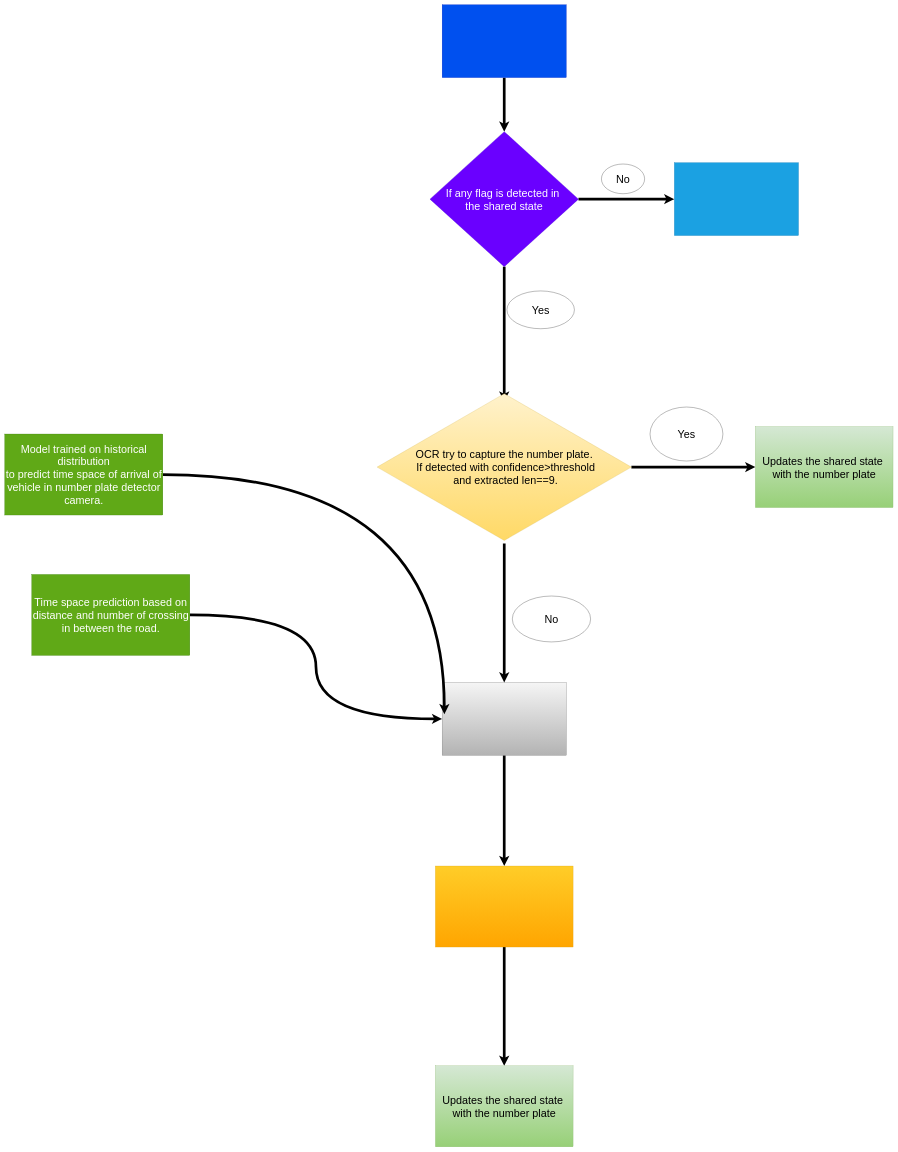
Some shapes in this 898 by 1152 pixel diagram are drawn without their labels. Each missing label, with the centre of its shape:
All cameras update the shared state: point 504,41
Delete the ID in the shared state.: point 736,199
Seach for the same vehicle in the seach time space based on appearace: point 504,906
Time search space is created and updated to the number plate detector camera: point 504,718
